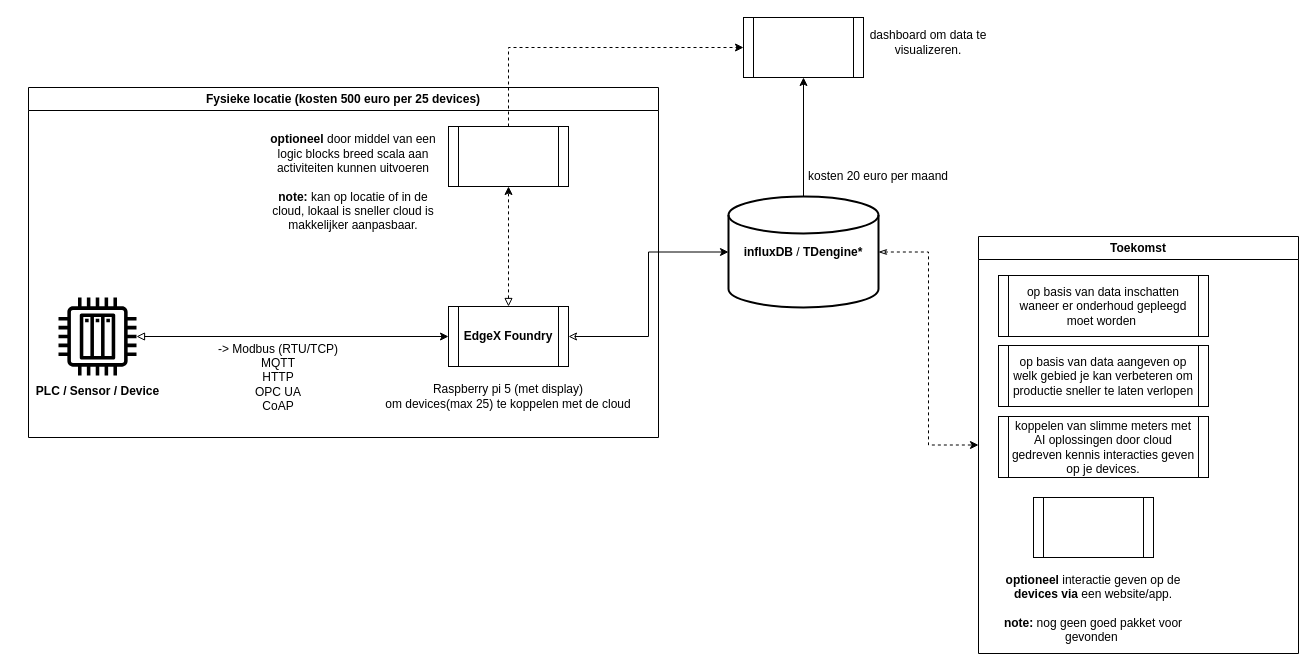
This 1316x671 diagram has some shape labels left out. Here are the shapes that lost their labels. From the top down, the box of each, then its label:
(742, 16, 864, 78): Grafana
(448, 126, 568, 186): Red-Node
(1032, 496, 1154, 558): HMI
